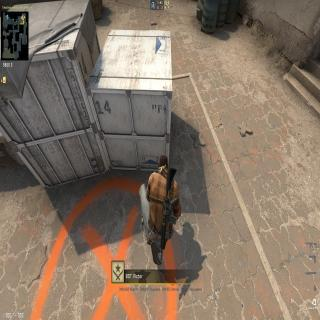T-Head: (157, 150, 169, 177)
